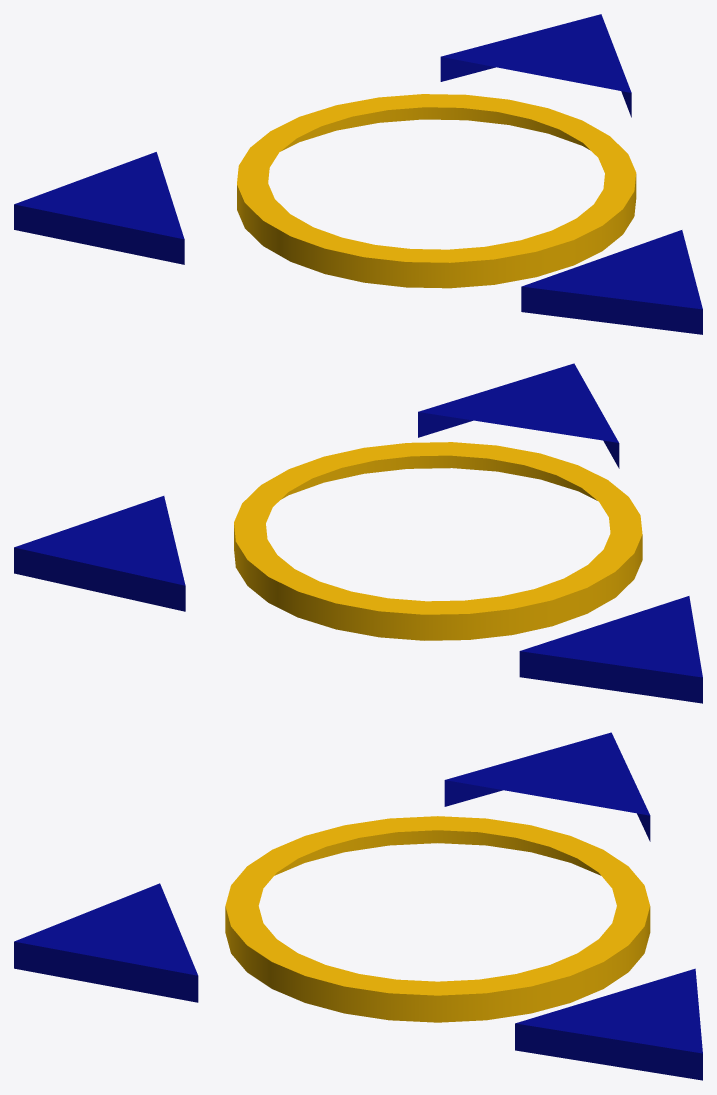
Rendered from JumpBooster1.FBX.
3 views of the same model, one above another, from view 1: azimuth 30°, elevation 25°; view 2: azimuth 150°, elevation 25°; view 3: azimuth 270°, elevation 25° (orthographic). The views are drawn at different scales.
Parts seen in each view (by area): view 1: Circle001, Line003, Line001, Line002; view 2: Circle001, Line001, Line002, Line003; view 3: Circle001, Line002, Line003, Line001.
Boxes of the visible parts, <box> form: Circle001: <box>237,94,636,288</box>; Line003: <box>521,230,702,334</box>; Line001: <box>14,152,184,264</box>; Line002: <box>440,14,631,117</box>; Circle001: <box>234,442,642,640</box>; Line001: <box>519,596,702,703</box>; Line002: <box>14,496,185,611</box>; Line003: <box>418,363,619,468</box>; Circle001: <box>225,816,650,1022</box>; Line002: <box>515,968,702,1080</box>; Line003: <box>14,883,198,1002</box>; Line001: <box>444,732,650,841</box>.
Size of the model in its own units: 12.96 by 11.56 by 0.597.
